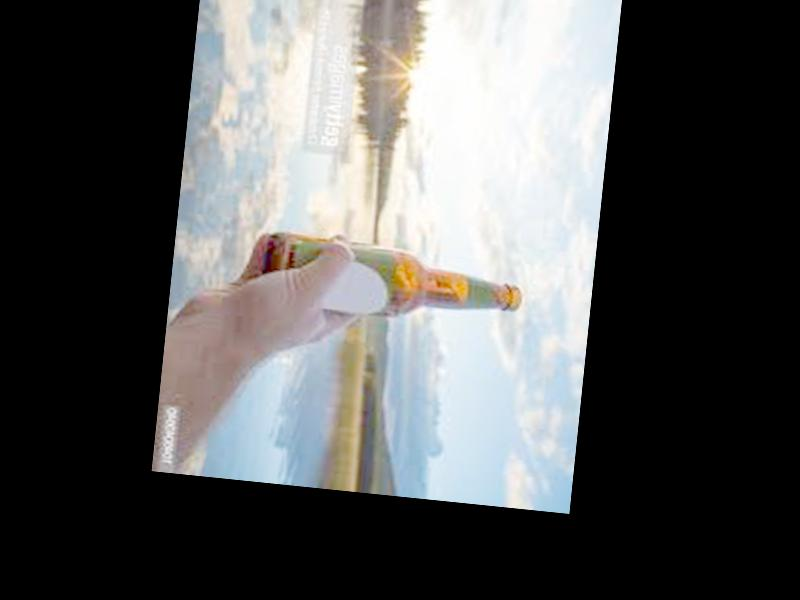Beer: (262, 229, 526, 332)
